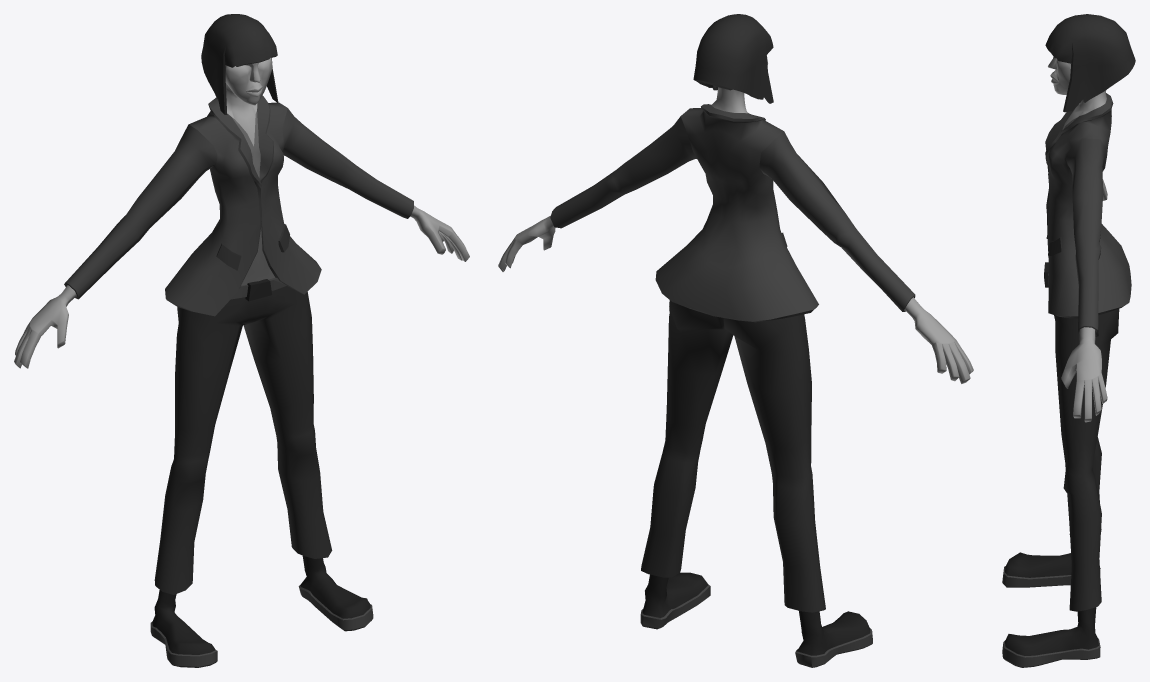
Rendered from npc_female_B.FBX.
3 views of the same model, side by side, from view 1: azimuth 30°, elevation 25°; view 2: azimuth 150°, elevation 25°; view 3: azimuth 270°, elevation 25° (orthographic). The views are drawn at different scales.
Visible parts, largest first — view 1: npc_female_B; view 2: npc_female_B; view 3: npc_female_B.
Boxes of the visible parts, left/top/right/bottom form: npc_female_B: left=14, top=14, right=469, bottom=667; npc_female_B: left=498, top=14, right=973, bottom=667; npc_female_B: left=1002, top=14, right=1135, bottom=667.
Size of the model in its own units: 65.41 by 83.06 by 16.68.
